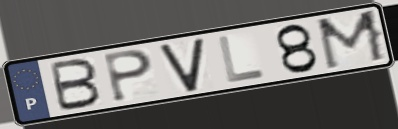8: (274, 22, 320, 75)
B: (48, 56, 104, 114)
L: (215, 33, 268, 85)
M: (313, 7, 390, 73)
P: (102, 48, 155, 104)
V: (157, 35, 206, 94)
